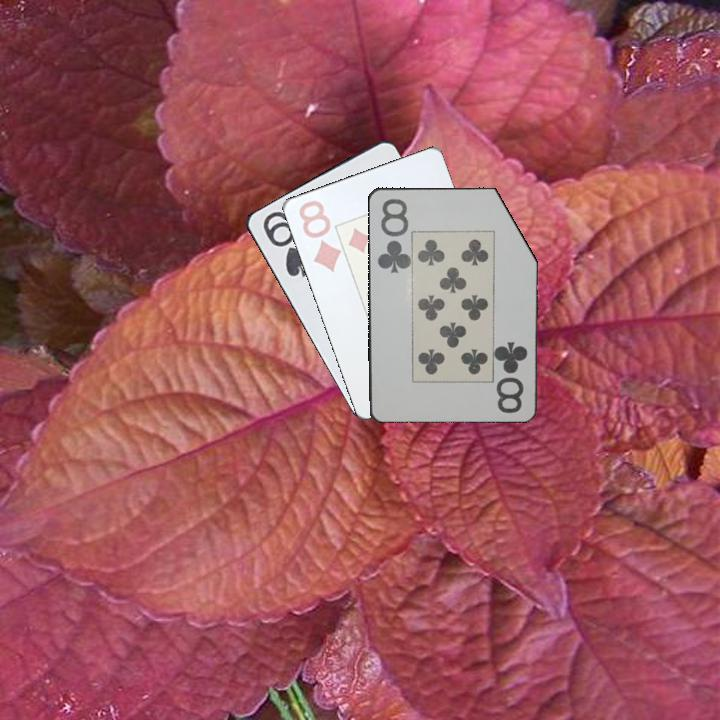6s: (259, 207, 316, 280)
8c: (373, 195, 411, 276), (495, 338, 530, 416)
8d: (295, 196, 343, 275)
